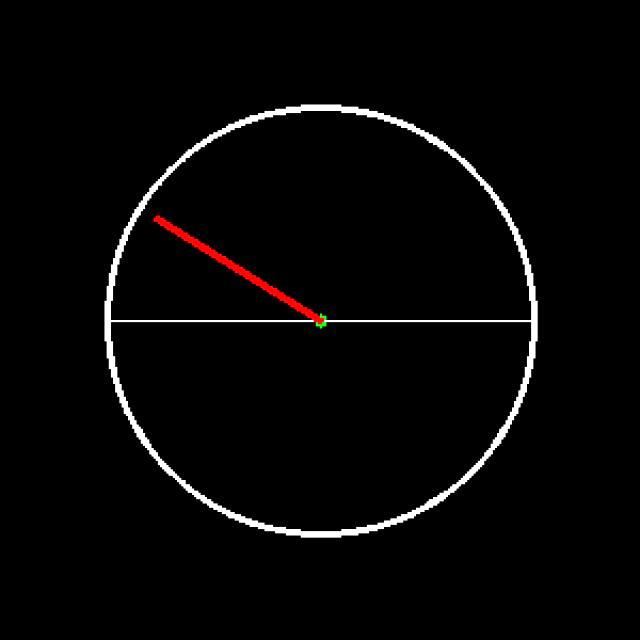Needle_Tip: (139, 198, 170, 244)
Needle_base: (285, 299, 358, 361)
